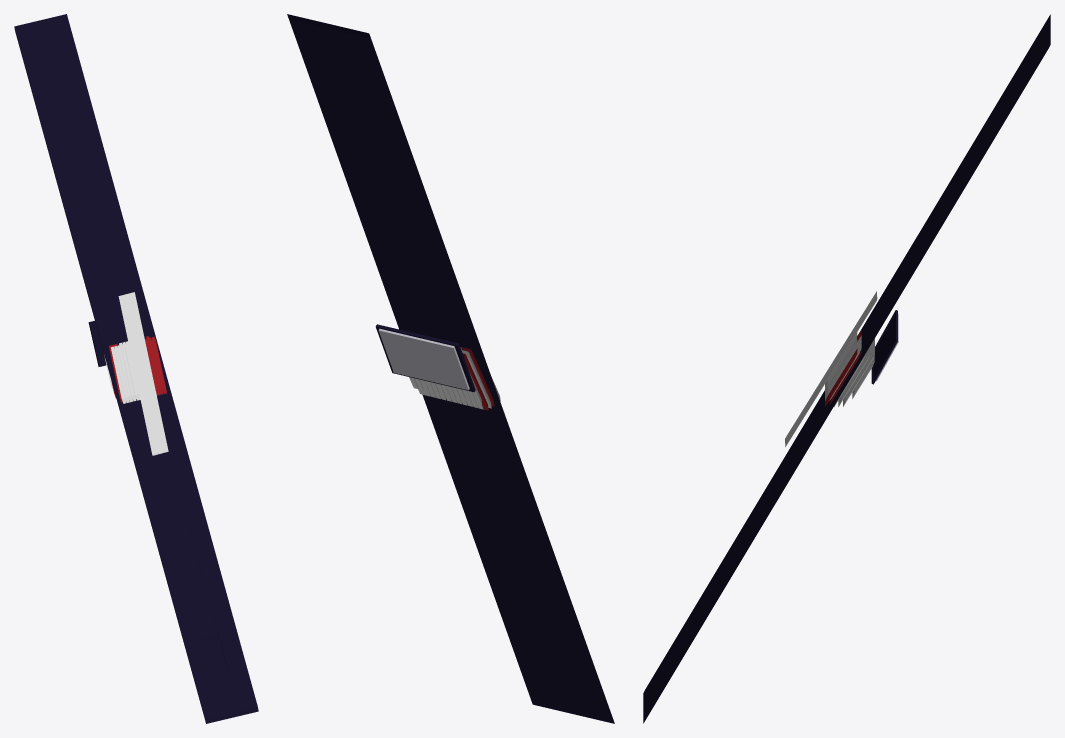
The model's file is laptopss.glb.
3 views of the same model, side by side, from view 1: azimuth 30°, elevation 25°; view 2: azimuth 150°, elevation 25°; view 3: azimuth 270°, elevation 25° (orthographic). The views are drawn at different scales.
Parts seen in each view (by area): view 1: Cube, Cube.040; view 2: Cube, Cube.027, Cube.001; view 3: Cube, Cube.040, Cube.001.
Boxes of the visible parts, x1,y1,x2,y2 form: Cube: (14,14,258,723); Cube.040: (118,292,168,455); Cube: (287,14,614,723); Cube.027: (378,328,469,390); Cube.001: (375,324,475,392); Cube: (643,14,1050,723); Cube.040: (785,291,877,446); Cube.001: (871,310,897,384).
Size of the model in its own units: 3.85 by 30.04 by 16.55.
